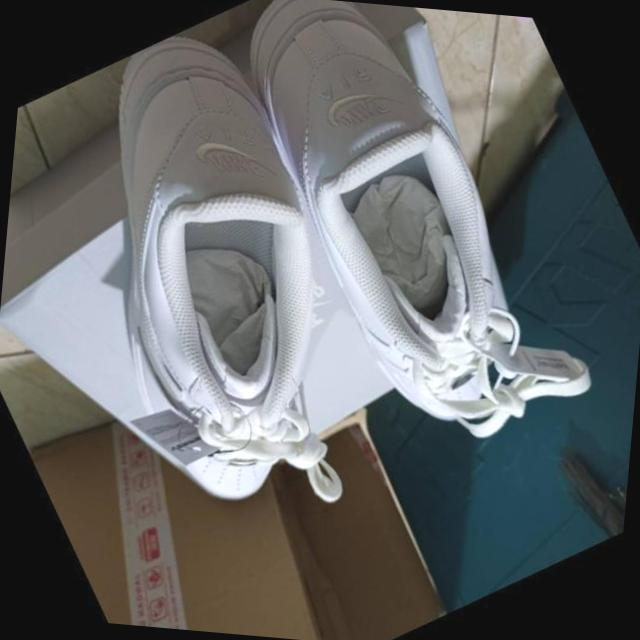nike_original_airforce: (0, 0, 445, 543), (178, 0, 600, 463)
